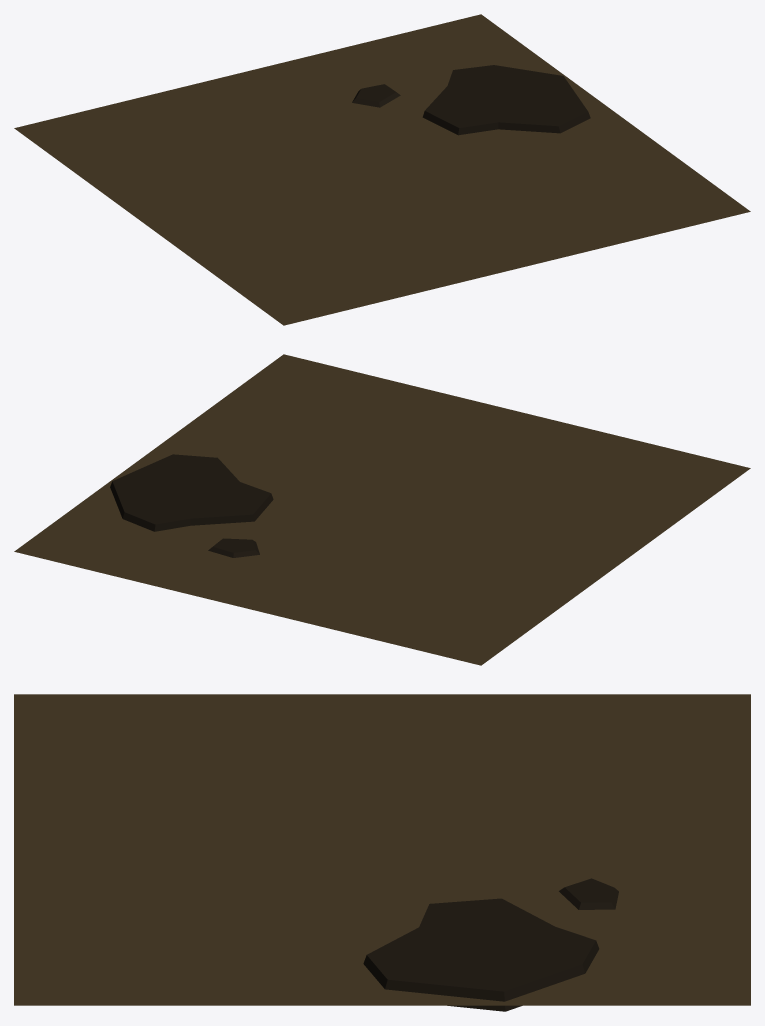
Rendered from Floor.010.fbx.
3 renders of one model, top to bottom at view 1: azimuth 30°, elevation 25°; view 2: azimuth 150°, elevation 25°; view 3: azimuth 270°, elevation 25°, orthographic. The views are drawn at different scales.
Visible parts, largest first — view 1: Floor.010; view 2: Floor.010; view 3: Floor.010.
Boxes of the visible parts, x1,y1,x2,y2 form: Floor.010: (14, 14, 750, 325); Floor.010: (14, 354, 750, 665); Floor.010: (14, 694, 750, 1011).
Bounding box in the file's own units: 100 × 2.6 × 100.
